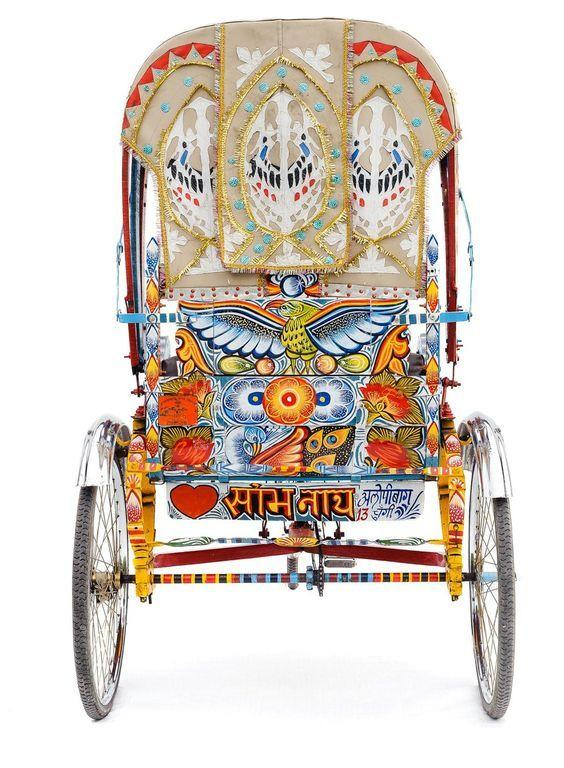Rickshaw: (73, 19, 514, 718)
